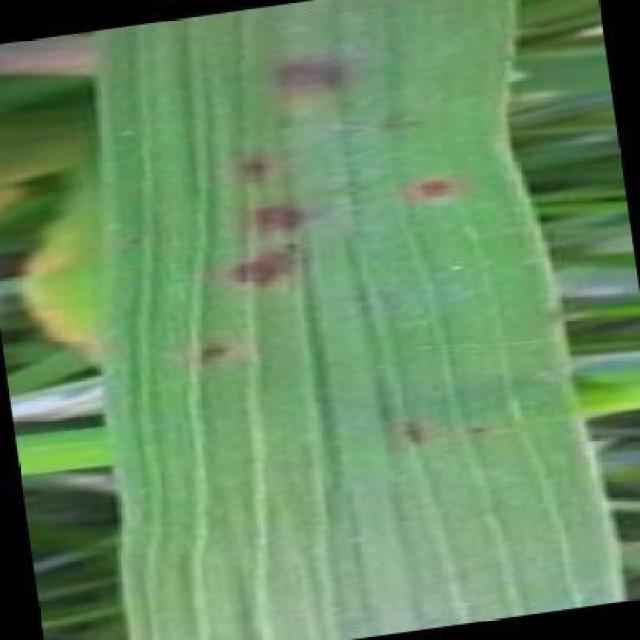Leaf_Blast: (255, 36, 374, 115), (212, 231, 318, 307), (244, 188, 331, 243), (219, 141, 284, 194), (407, 163, 467, 212), (188, 326, 247, 374), (394, 410, 435, 455), (463, 413, 497, 444)
